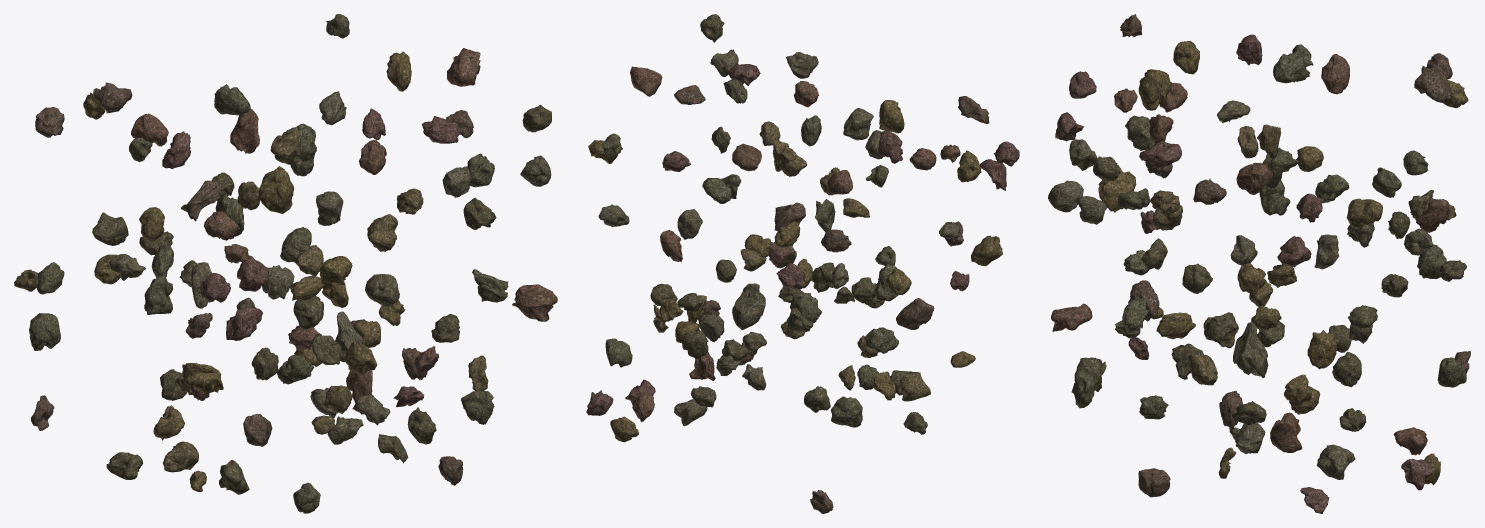
Rendered from asteroidGroup.glb.
The picture shows the model from 3 angles, left to right: view 1: azimuth 30°, elevation 25°; view 2: azimuth 150°, elevation 25°; view 3: azimuth 270°, elevation 25°; orthographic projection. The views are drawn at different scales.
Parts seen in each view (by area): view 1: Object_2; view 2: Object_2; view 3: Object_2.
Part boxes in pixels (box(x1,y1,x2,y2)): Object_2: box(14, 14, 557, 513); Object_2: box(586, 14, 1019, 513); Object_2: box(1048, 14, 1470, 513).
Size of the model in its own units: 15.7 by 15.09 by 15.63.
8 materials, 8 textured.
